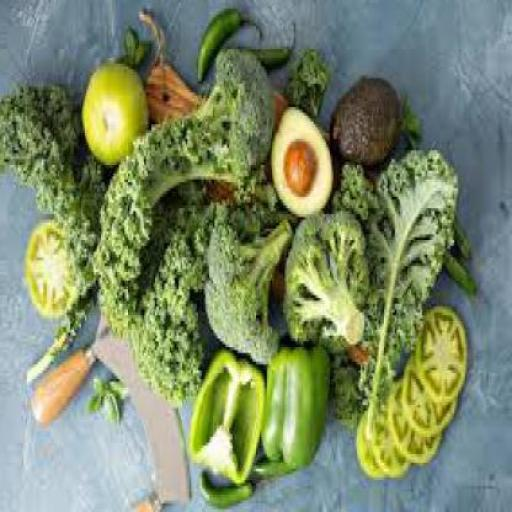biodegradable: (98, 49, 274, 411), (355, 154, 460, 442), (2, 90, 106, 298), (209, 217, 294, 370), (285, 217, 373, 353), (191, 353, 267, 489), (261, 348, 333, 468), (272, 107, 336, 223), (82, 64, 152, 170), (330, 78, 402, 174), (27, 289, 97, 382), (26, 220, 80, 322), (417, 310, 468, 406), (390, 376, 444, 466), (199, 12, 263, 86), (404, 353, 458, 437), (372, 396, 411, 478), (335, 167, 384, 229), (331, 359, 368, 434), (286, 55, 328, 121), (253, 26, 297, 75), (357, 411, 384, 483), (92, 376, 130, 425), (285, 142, 317, 200), (200, 478, 258, 510), (443, 254, 480, 301), (402, 98, 421, 148), (122, 32, 146, 69), (455, 222, 472, 267), (256, 460, 298, 477)
